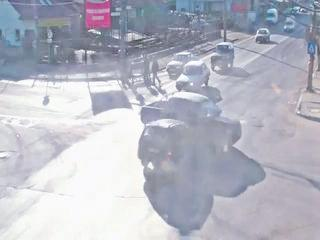Car: (143, 97, 240, 153), (145, 119, 199, 181), (165, 91, 224, 122), (175, 61, 210, 91), (166, 51, 197, 78), (210, 42, 234, 70), (140, 101, 169, 124), (255, 28, 270, 43), (266, 8, 278, 23), (284, 20, 295, 31)
Major Accident: (140, 96, 243, 182)
Not Accident: (165, 50, 212, 90)
